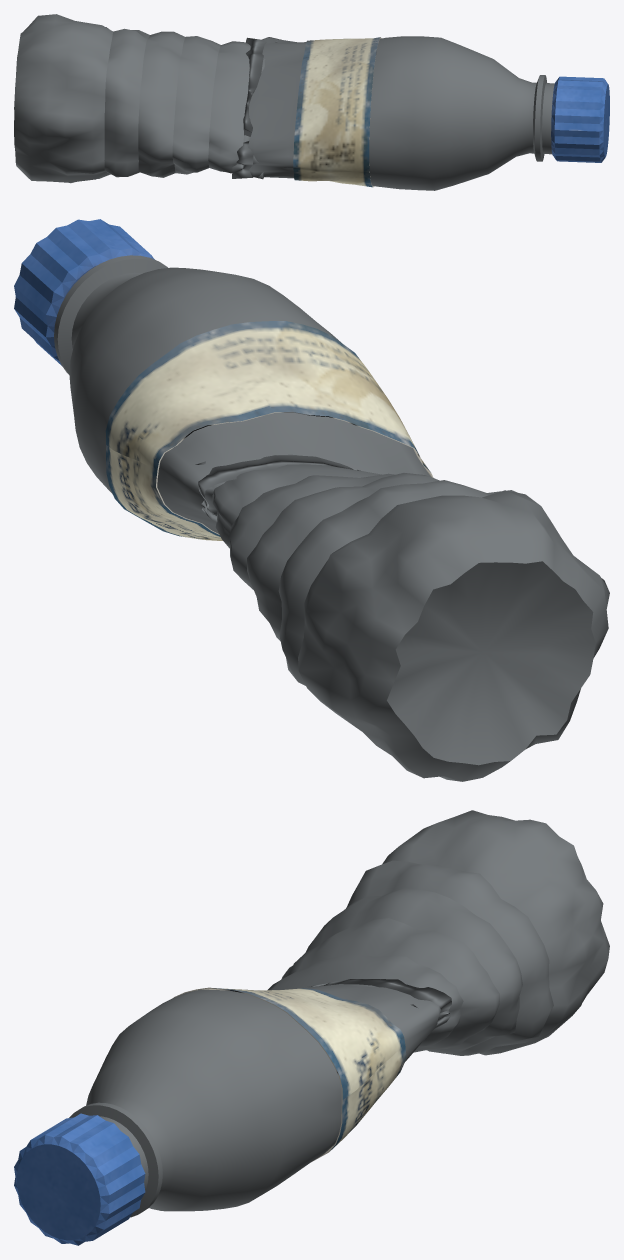
The model's file is SM_PL_Bottles_Water500_crushed.fbx.
3 views of the same model, one above another, from view 1: azimuth 30°, elevation 25°; view 2: azimuth 150°, elevation 25°; view 3: azimuth 270°, elevation 25° (orthographic). The views are drawn at different scales.
Visible parts, largest first — view 1: SM_PL_Bottles_Water500_crushed; view 2: SM_PL_Bottles_Water500_crushed; view 3: SM_PL_Bottles_Water500_crushed.
Boxes of the visible parts, <box> form: SM_PL_Bottles_Water500_crushed: <box>14,14,609,190</box>; SM_PL_Bottles_Water500_crushed: <box>14,219,609,781</box>; SM_PL_Bottles_Water500_crushed: <box>14,810,609,1245</box>.
Bounding box in the file's own units: 0.2058 × 0.0653 × 0.1627.
2 materials, 2 textured.
